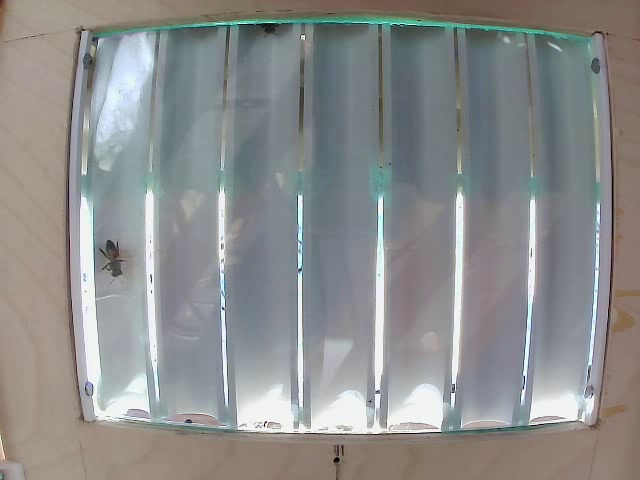bee: (92, 242, 131, 289)
